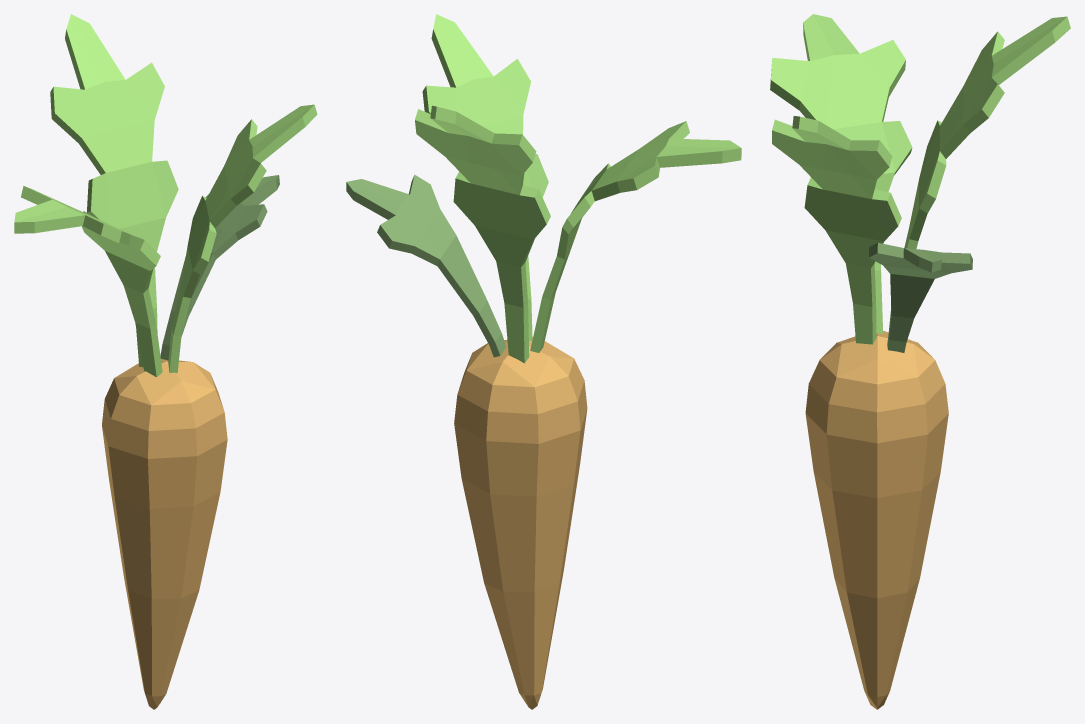
File: carrot_4.glb
3 views of the same model, side by side, from view 1: azimuth 30°, elevation 25°; view 2: azimuth 150°, elevation 25°; view 3: azimuth 270°, elevation 25° (orthographic). The views are drawn at different scales.
Parts seen in each view (by area): view 1: Carrot_4; view 2: Carrot_4; view 3: Carrot_4.
Part boxes in pixels (left/top/right/bottom): Carrot_4: left=14, top=14, right=317, bottom=709; Carrot_4: left=346, top=14, right=741, bottom=709; Carrot_4: left=770, top=14, right=1070, bottom=709.
Bounding box in the file's own units: 0.6765 × 1.28 × 0.5016.
